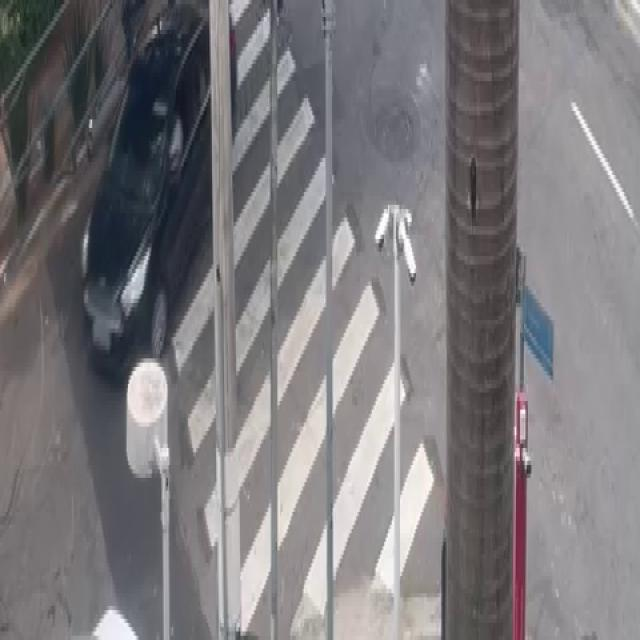car: (81, 0, 250, 389)
